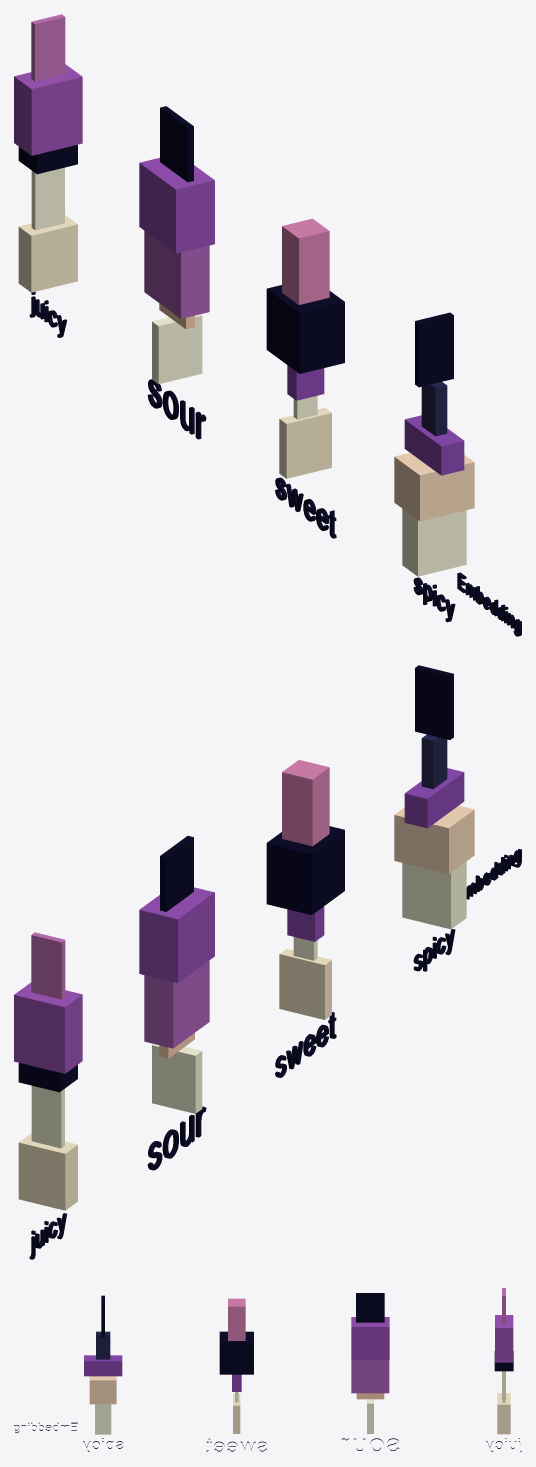
The model's file is taste-embeddings.glb.
The picture shows the model from 3 angles, top to bottom: view 1: azimuth 30°, elevation 25°; view 2: azimuth 150°, elevation 25°; view 3: azimuth 270°, elevation 25°; orthographic projection. The views are drawn at different scales.
Visible parts, largest first — view 1: Renderer Node; view 2: Renderer Node; view 3: Renderer Node.
Boxes of the visible parts, x1,y1,x2,y2 form: Renderer Node: (14, 14, 521, 636); Renderer Node: (14, 665, 521, 1259); Renderer Node: (14, 1288, 521, 1452).
Bounding box in the file's own units: 0.8572 × 4.64 × 13.31.
